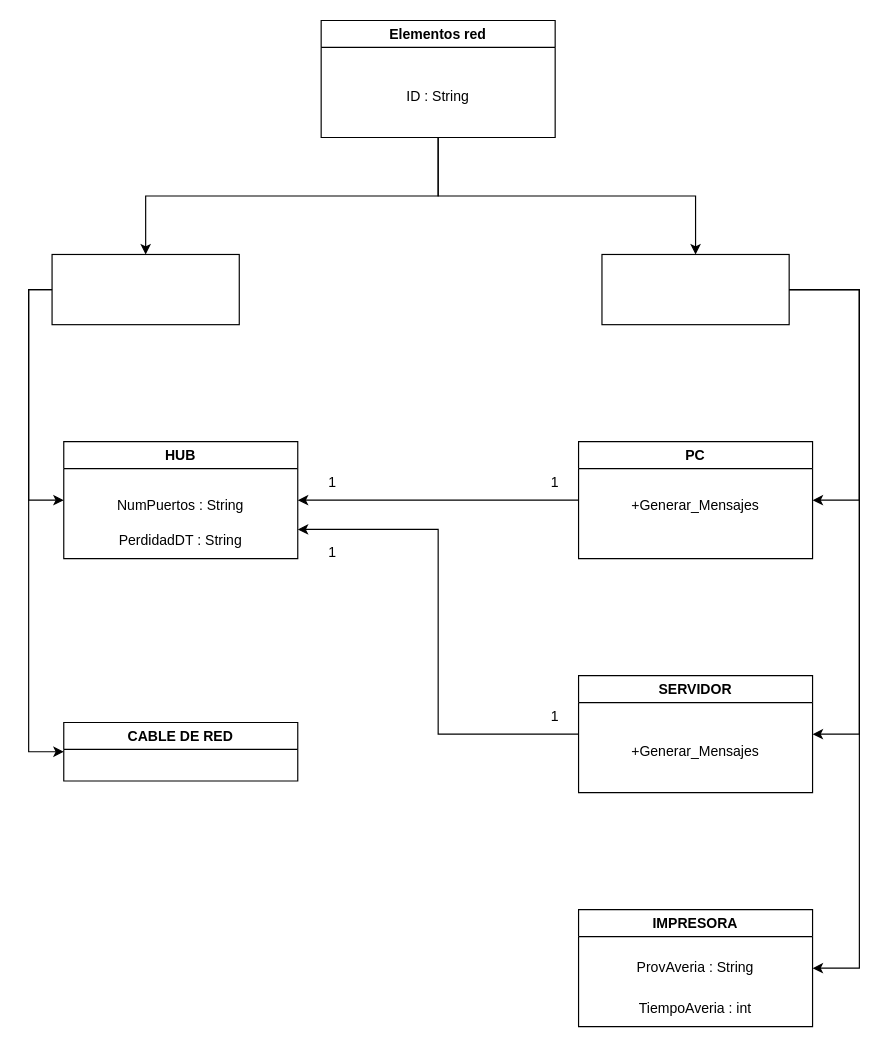
The diagram is 889 pixels wide and 1047 high, and some of its shapes have lost their labels. Each missing label, with the centre of its shape:
ELEMENTO ACTIVO: the point at 145,289
ELEMENTO PASIVO: the point at 695,289
